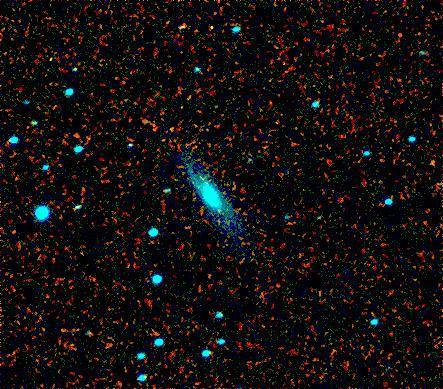star: (35, 42, 65, 72)
